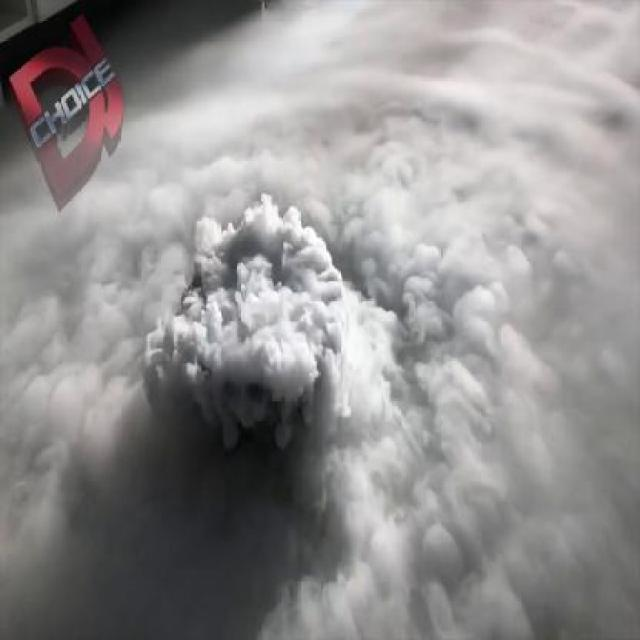smoke: (3, 129, 548, 640), (139, 78, 613, 620)
